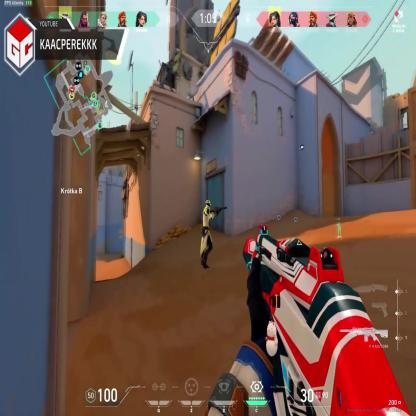enemy: (200, 198, 212, 268)
enemy_head: (206, 199, 210, 208)
